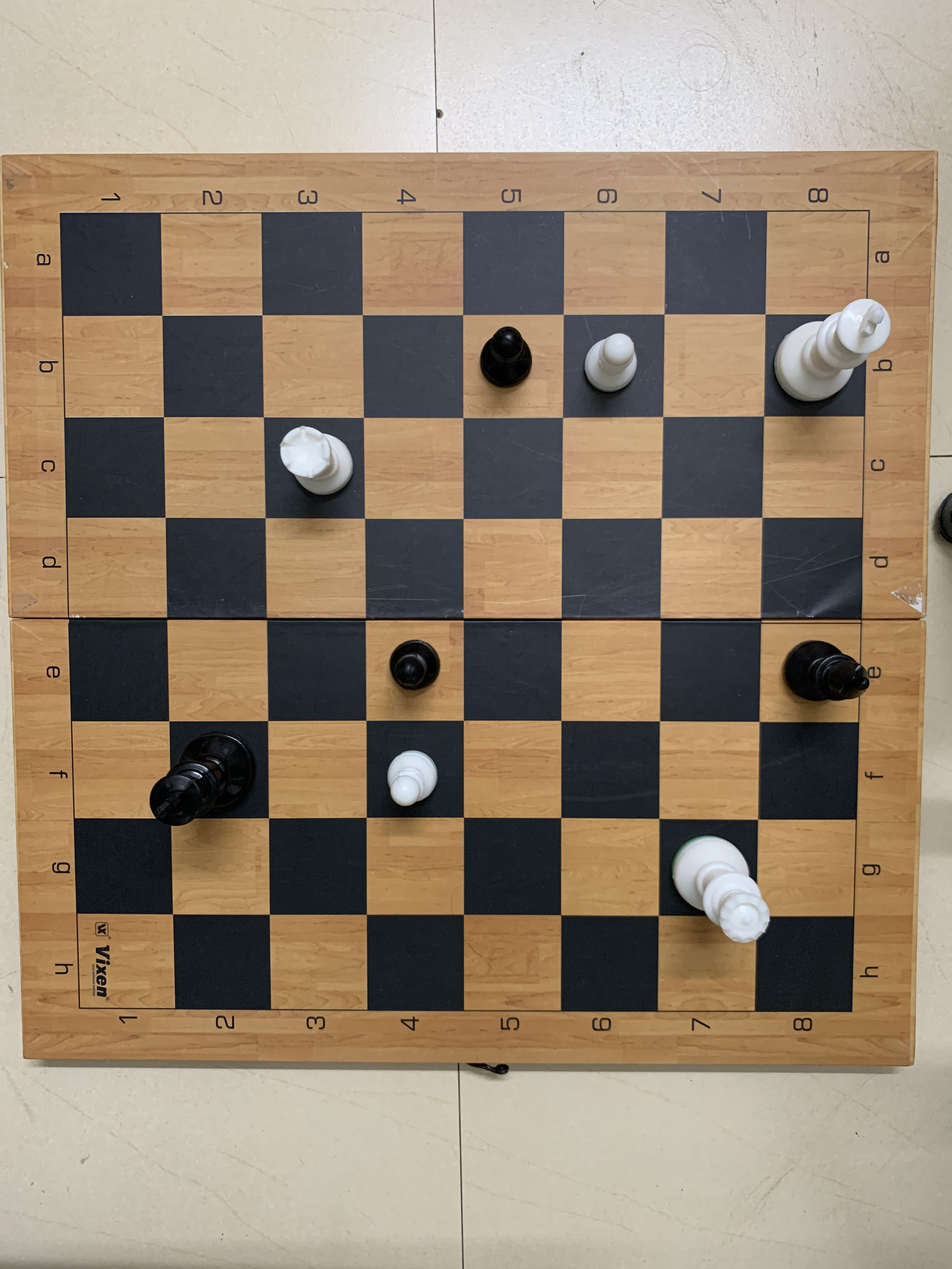black_bishop: (770, 633, 884, 717)
black_king: (135, 723, 271, 832)
black_pawn: (471, 319, 541, 393), (382, 627, 447, 695)
white_king: (768, 290, 892, 410)
white_pawn: (579, 327, 641, 397), (383, 744, 446, 808)
white_queen: (657, 818, 790, 949)
white_rook: (275, 418, 361, 503)
